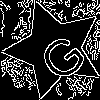G: (29, 24, 90, 85)
